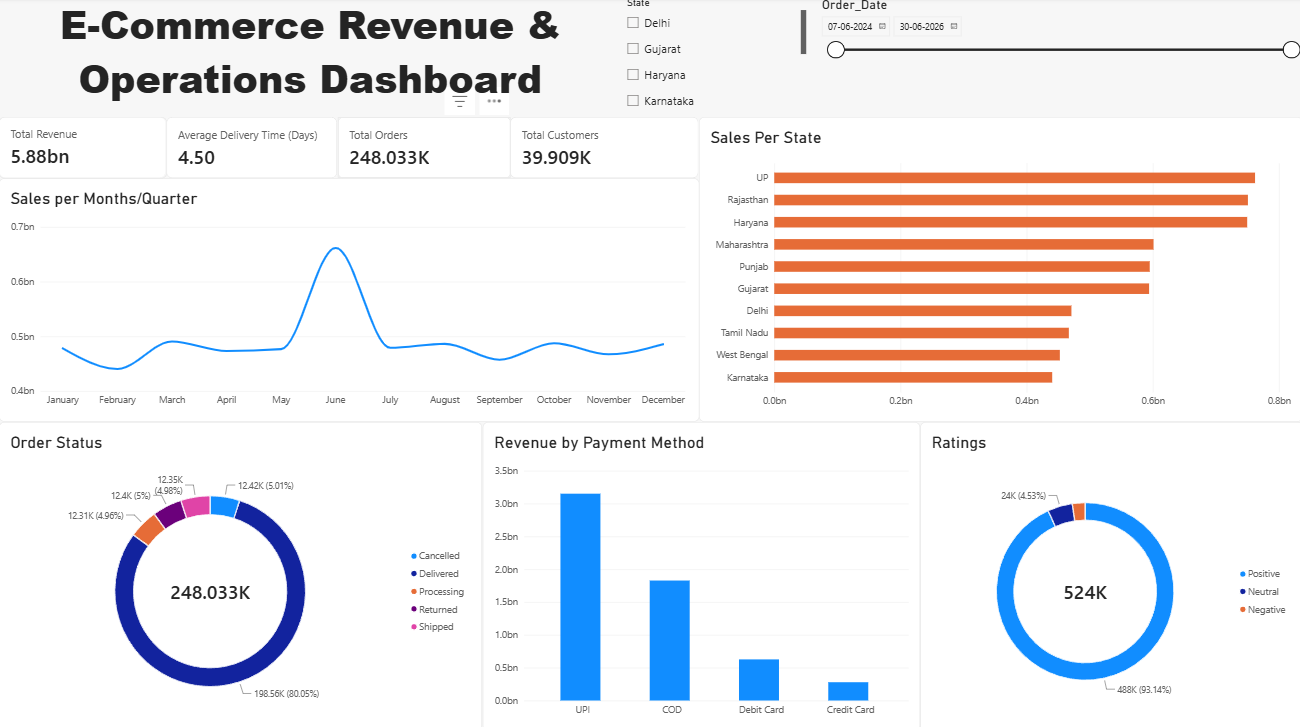

The dashboard page shown, as its layout file describes it:
{"tool":"powerbi","page":{"name":"Page 1","canvas":[1920,1080],"ordinal":0},"visuals":[{"type":"lineChart","title":"Sales per Months/Quarter","fields":{"Category":["sales.Order_Date.Variation.Date Hierarchy.Month"],"Y":["Sum(sales.Total_Amount)"]},"box":[0,267.6,1031.2,358.1],"z":0},{"type":"cardVisual","fields":{"Data":["Sum(sales.Total_Amount)"]},"box":[0,177,247,90.6],"z":1000},{"type":"cardVisual","fields":{"Data":["Count(sales.Customer_ID)"]},"box":[753.3,177,277.9,90.6],"z":2000},{"type":"cardVisual","fields":{"Data":["Count(sales.Order_ID)"]},"box":[498.1,177,255.2,90.6],"z":3000},{"type":"cardVisual","fields":{"Data":["sales.Average Delivery Time"]},"box":[247,177,251.1,90.6],"z":4000},{"type":"donutChart","title":"Ratings","fields":{"Category":["sales.Sentiment"],"Y":["Sum(sales.Rating)"]},"box":[1356.4,625.7,564,454.9],"z":5000},{"type":"clusteredBarChart","title":"Sales Per State","fields":{"Category":["sales.State"],"Y":["Sum(sales.Total_Amount)"]},"box":[1031.2,177,889.2,448.7],"z":6000},{"type":"donutChart","title":"Order Status","fields":{"Series":["sales.Order_Status"],"Y":["CountNonNull(sales.Order_ID)"]},"box":[0,626.1,711.2,454.2],"z":7000},{"type":"clusteredColumnChart","title":"Revenue by Payment Method","fields":{"Category":["sales.Payment_Mode"],"Y":["Sum(sales.Total_Amount)"]},"box":[712.2,625.7,644.3,454.9],"z":8000},{"type":"slicer","fields":{"Values":["sales.Order_Date"]},"box":[1203.7,0,716,176.7],"z":9000},{"type":"slicer","fields":{"Values":["sales.State"]},"box":[916.6,0,272.4,176.7],"z":9001},{"type":"textbox","box":[0,0,916.6,176.7],"z":9002}]}

Visuals, with their boxes in screenshot pixels (x1, y1, x2, y2), scaled from the page's 1920x1080 canvas onto the 1300x727 screenshot:
"Sales per Months/Quarter" lineChart: (x1=0, y1=180, x2=698, y2=421)
cardVisual - Sum(sales.Total_Amount): (x1=0, y1=119, x2=167, y2=180)
cardVisual - Count(sales.Customer_ID): (x1=510, y1=119, x2=698, y2=180)
cardVisual - Count(sales.Order_ID): (x1=337, y1=119, x2=510, y2=180)
cardVisual - sales.Average Delivery Time: (x1=167, y1=119, x2=337, y2=180)
"Ratings" donutChart: (x1=918, y1=421, x2=1299, y2=726)
"Sales Per State" clusteredBarChart: (x1=698, y1=119, x2=1299, y2=421)
"Order Status" donutChart: (x1=0, y1=421, x2=482, y2=726)
"Revenue by Payment Method" clusteredColumnChart: (x1=482, y1=421, x2=918, y2=726)
slicer - sales.Order_Date: (x1=815, y1=0, x2=1299, y2=119)
slicer - sales.State: (x1=621, y1=0, x2=805, y2=119)
textbox: (x1=0, y1=0, x2=621, y2=119)
